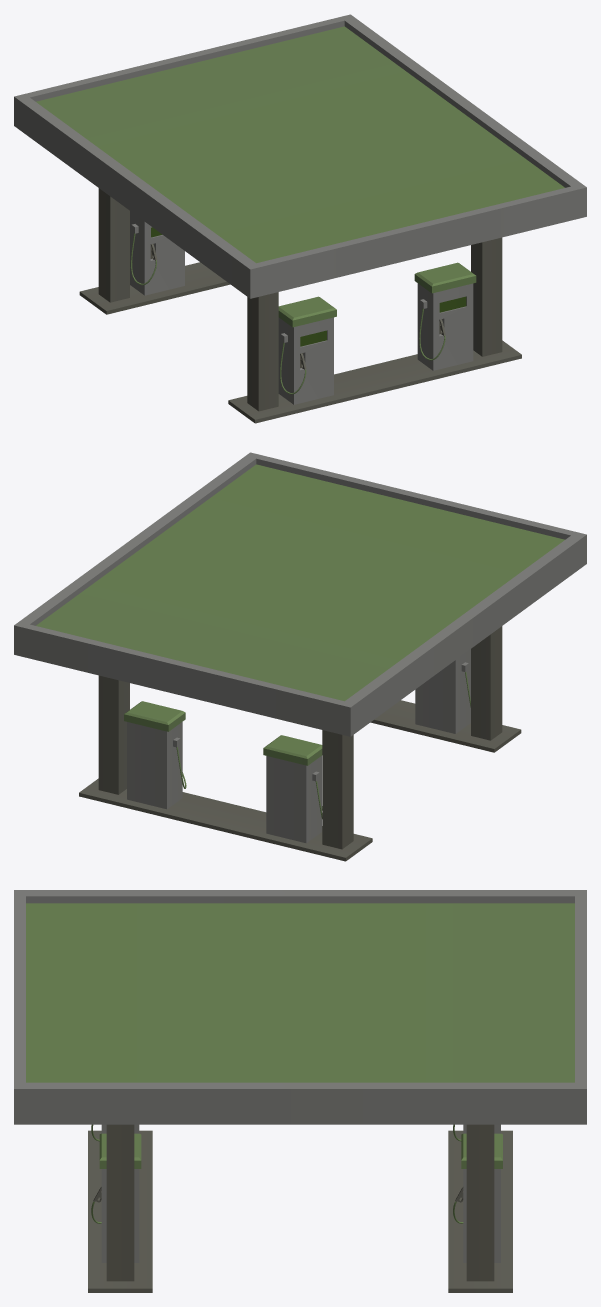
The model's file is Gas_Station_04.fbx.
3 renders of one model, top to bottom at view 1: azimuth 30°, elevation 25°; view 2: azimuth 150°, elevation 25°; view 3: azimuth 270°, elevation 25°, orthographic. The views are drawn at different scales.
Parts seen in each view (by area): view 1: Gas_Station_04; view 2: Gas_Station_04; view 3: Gas_Station_04.
Part boxes in pixels (bbox=[...]): Gas_Station_04: bbox=[14, 14, 586, 423]; Gas_Station_04: bbox=[14, 452, 586, 861]; Gas_Station_04: bbox=[14, 890, 586, 1292].
Bounding box in the file's own units: 7.25 × 3.81 × 8.82.
